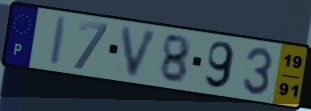3: (241, 46, 275, 97)
7: (73, 19, 110, 71)
8: (159, 33, 194, 85)
9: (203, 40, 236, 91)
I: (47, 14, 70, 68)
V: (119, 25, 161, 80)
